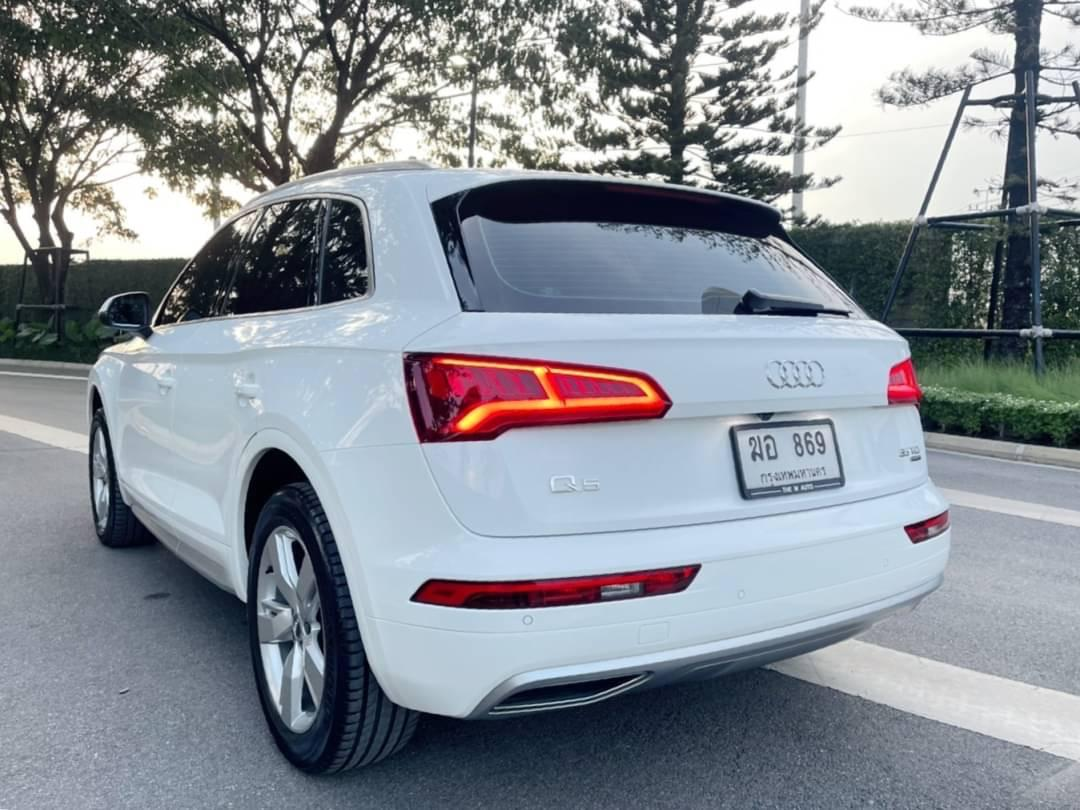license-plate: (728, 417, 850, 500)
